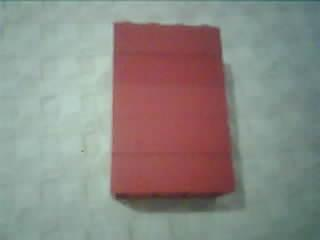lego: (106, 19, 238, 201)
